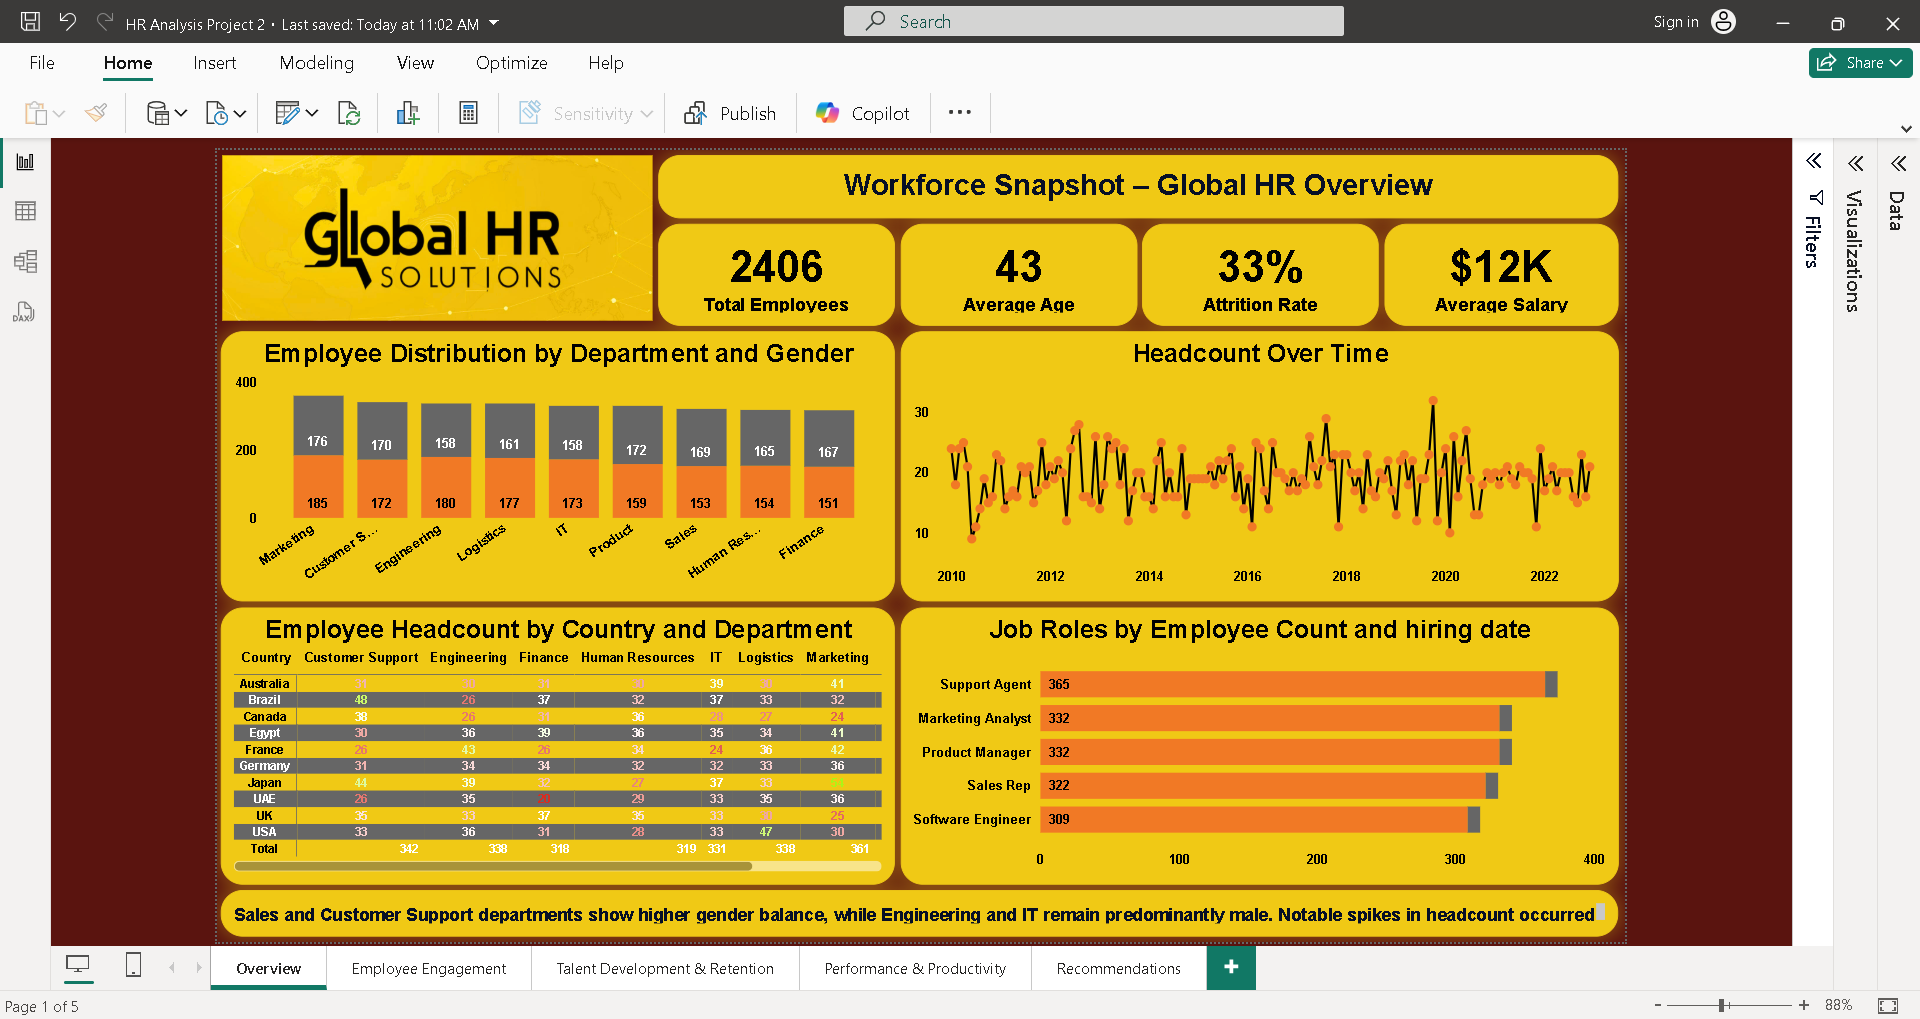

The page's visual inventory and layout, read from the dashboard file:
{"tool":"powerbi","page":{"name":"Overview","canvas":[1280,720],"ordinal":0},"visuals":[{"type":"textbox","box":[401.1,4.9,873.1,57.5],"z":0},{"type":"card","fields":{"Values":["HR_Metrics.Total Employees"]},"box":[401.1,67.3,215.2,92.9],"z":1000},{"type":"card","fields":{"Values":["HR_Metrics.Attrition Rate"]},"box":[841.3,67.3,215.2,92.9],"z":2000},{"type":"card","fields":{"Values":["HR_Metrics.Average Salary"]},"box":[1061.4,67.3,212.8,92.9],"z":3000},{"type":"pivotTable","title":"Employee Headcount by Country and Department","fields":{"Rows":["Dim_Employee.Country"],"Values":["CountNonNull(Dim_Employee.EmployeeID)"],"Columns":["Dim_Employee.Department"]},"box":[3.7,415.8,612.6,251.9],"z":4000},{"type":"columnChart","title":"Employee Distribution by Department and Gender","fields":{"Y":["CountNonNull(Dim_Employee.EmployeeID)"],"Series":["Dim_Employee.Gender"],"Category":["Dim_Department.DepartmentName"]},"box":[3.7,165.1,612.6,245.8],"z":5000},{"type":"card","fields":{"Values":["HR_Metrics.Average Age"]},"box":[621.2,67.3,215.2,92.9],"z":6000},{"type":"lineChart","title":"Headcount Over Time","fields":{"Y":["CountNonNull(Dim_Employee.EmployeeID)"],"Category":["Dim_Employee.HireDate.Variation.Date Hierarchy.Year","Dim_Employee.HireDate.Variation.Date Hierarchy.Month"]},"box":[621.2,165.1,653,245.8],"z":7000},{"type":"barChart","title":" Job Roles by Employee Count and hiring date","fields":{"Y":["CountNonNull(Dim_Employee.HireDate)","CountNonNull(Dim_Department.DepartmentID)"],"Category":["Dim_Employee.JobTitle"]},"box":[621.2,415.8,653,251.9],"z":8000},{"type":"image","box":[0,0,401.1,160.2],"z":9000},{"type":"textbox","box":[3.7,672.6,1270.5,42.8],"z":10000}]}

Visuals, with their boxes on the page's 1280x720 design canvas (x1, y1, x2, y2). These are canvas units, not pixel positions in the 1920x1019 screenshot, which may show the page scaled, cropped or inside an application window:
textbox: 401:5:1274:62
card - HR_Metrics.Total Employees: 401:67:616:160
card - HR_Metrics.Attrition Rate: 841:67:1056:160
card - HR_Metrics.Average Salary: 1061:67:1274:160
"Employee Headcount by Country and Department" pivotTable: 4:416:616:668
"Employee Distribution by Department and Gender" columnChart: 4:165:616:411
card - HR_Metrics.Average Age: 621:67:836:160
"Headcount Over Time" lineChart: 621:165:1274:411
" Job Roles by Employee Count and hiring date" barChart: 621:416:1274:668
image: 0:0:401:160
textbox: 4:673:1274:715
